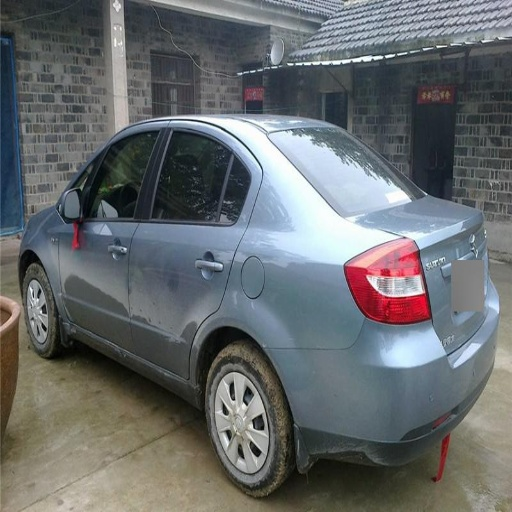back_bumper: (273, 315, 496, 473)
back_glass: (269, 126, 423, 215)
back_left_door: (131, 121, 261, 381)
